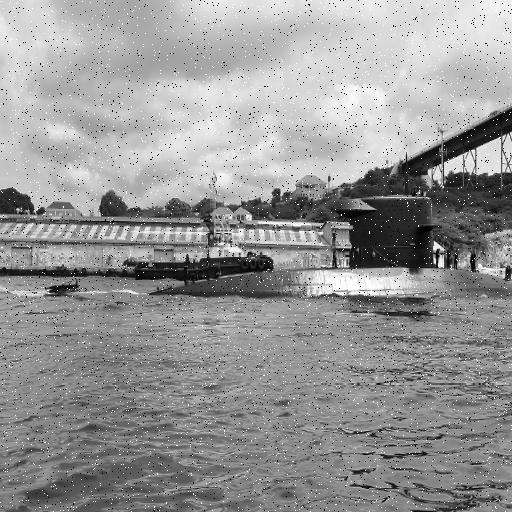submarine: (141, 188, 512, 302)
